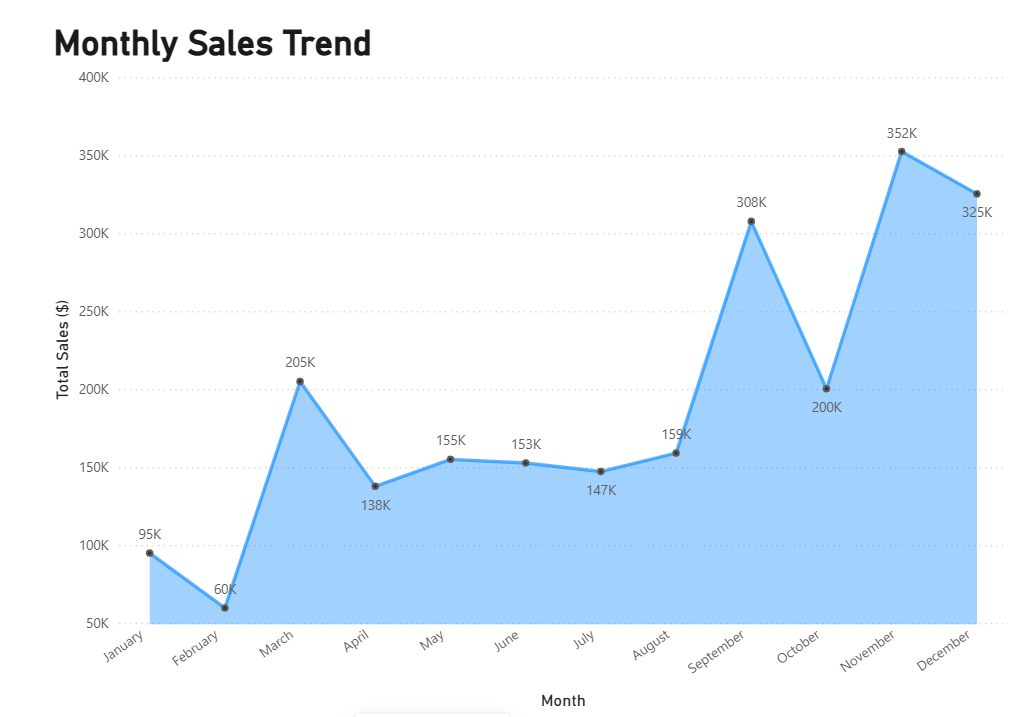

Layout of this report page (visuals, bound fields, positions):
{"tool":"powerbi","page":{"name":"Monthly Sa;es Trend","canvas":[1280,720],"ordinal":2},"visuals":[{"type":"lineChart","title":"Monthly Sales Trend","fields":{"Category":["dataset.Order Date.Variation.Date Hierarchy.Month"],"Y":["Sum(dataset.Sales)"]},"box":[226.4,41.2,857.6,616.1],"z":0}]}

Visuals, with their boxes on the page's 1280x720 design canvas (x1, y1, x2, y2). These are canvas units, not pixel positions in the 1027x717 screenshot, which may show the page scaled, cropped or inside an application window:
"Monthly Sales Trend" lineChart: 226/41/1084/657
